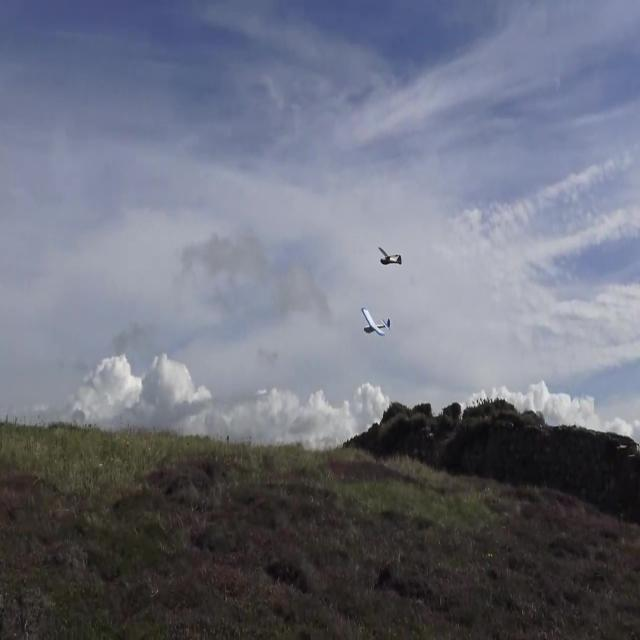iha: (360, 308, 391, 337), (377, 247, 402, 266)
